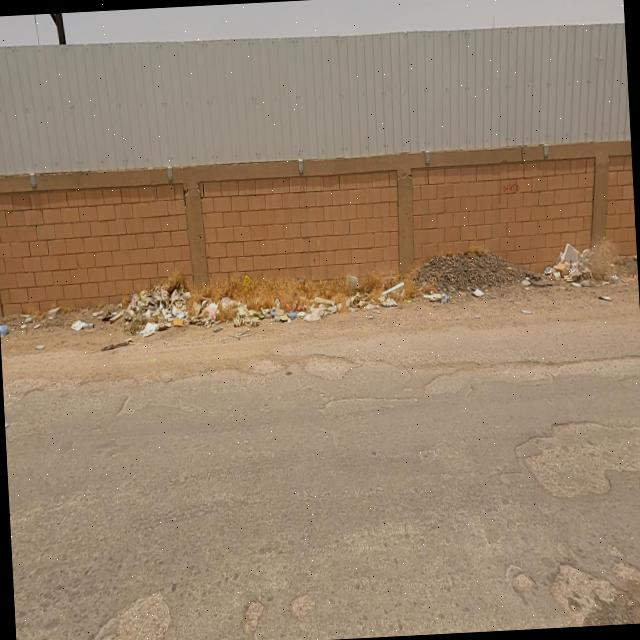Graffiti: (504, 183, 521, 198)
